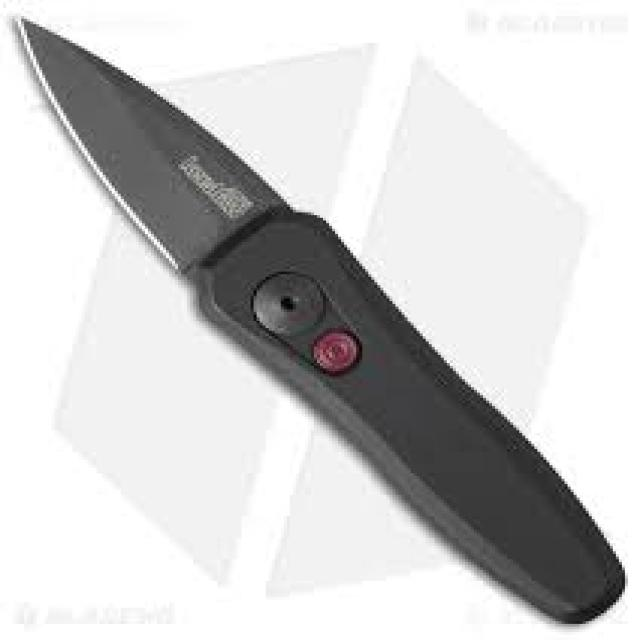knives: (6, 8, 628, 629)
